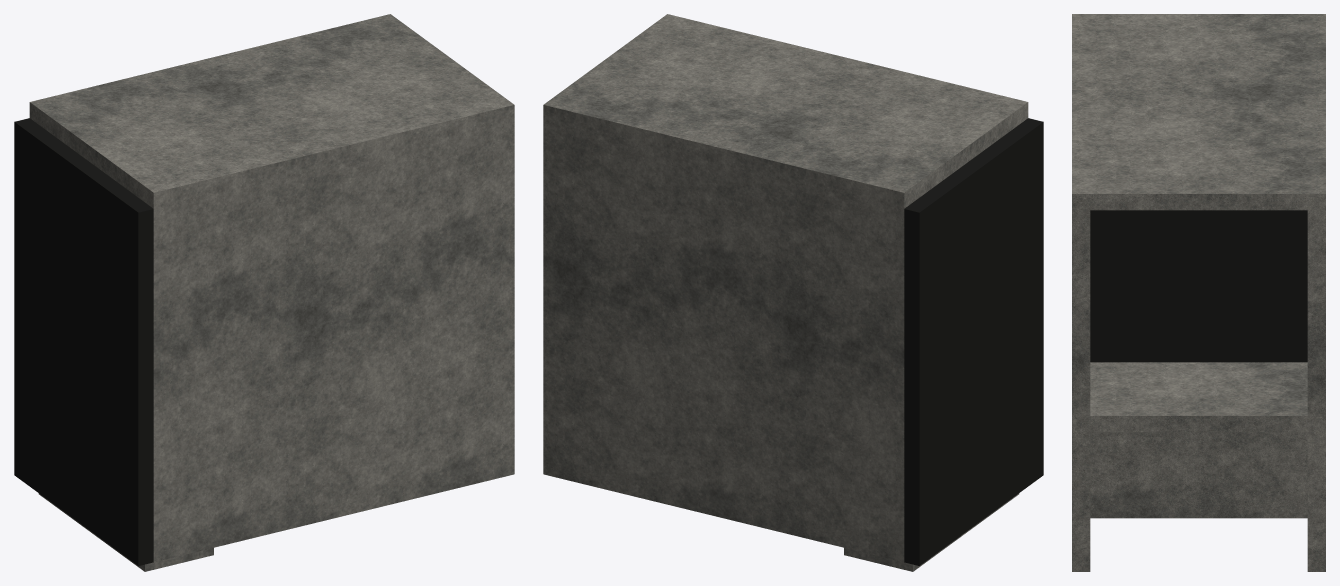
File: SM_L0_ServiceVestibule.fbx
The picture shows the model from 3 angles, left to right: view 1: azimuth 30°, elevation 25°; view 2: azimuth 150°, elevation 25°; view 3: azimuth 270°, elevation 25°; orthographic projection. The views are drawn at different scales.
Parts seen in each view (by area): view 1: SM_L0_ServiceVestibule; view 2: SM_L0_ServiceVestibule; view 3: SM_L0_ServiceVestibule.
Boxes of the visible parts, x1,y1,x2,y2 form: SM_L0_ServiceVestibule: [14, 14, 514, 571]; SM_L0_ServiceVestibule: [543, 14, 1043, 571]; SM_L0_ServiceVestibule: [1072, 14, 1325, 571].
Size of what is drawn, in the model's own units: 4.9 by 4.8 by 2.8.
